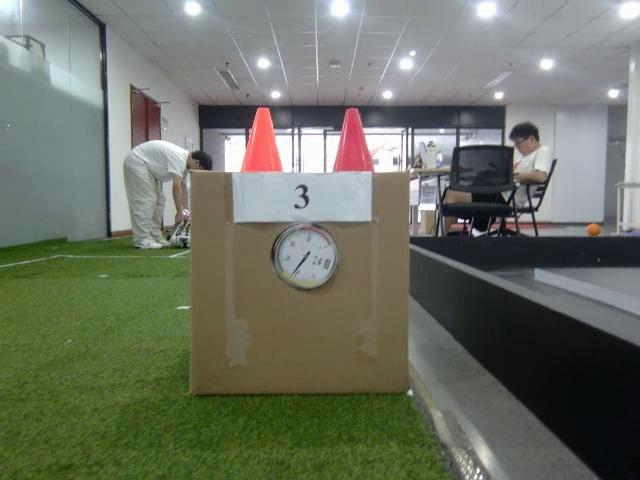3: (291, 183, 311, 211)
Dashboard: (268, 222, 340, 292)
orange_barrel: (239, 106, 285, 174)
red_barrel: (329, 107, 374, 173)
ssi: (324, 257, 332, 269)
